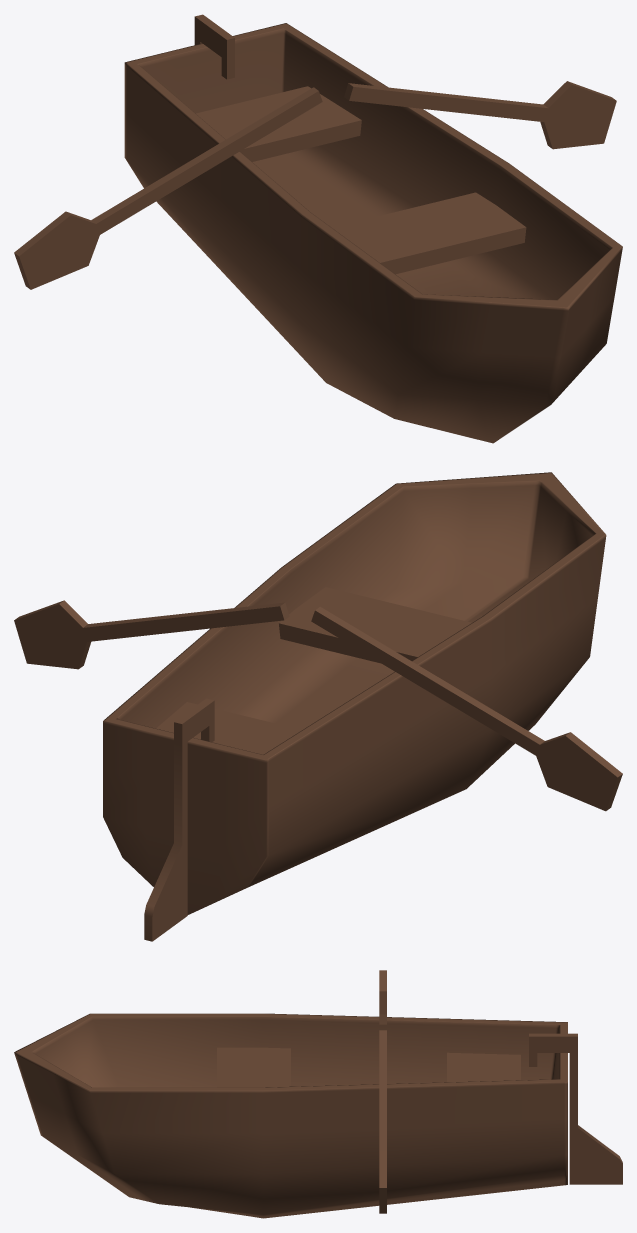
The model's file is low poly boat with oars.fbx.
3 renders of one model, top to bottom at view 1: azimuth 30°, elevation 25°; view 2: azimuth 150°, elevation 25°; view 3: azimuth 270°, elevation 25°, orthographic. The views are drawn at different scales.
Parts seen in each view (by area): view 1: pCube7, ore_01, ore_02; view 2: pCube7, ore_01, ore_02; view 3: pCube7, ore_02, ore_01.
Boxes of the visible parts, x1,y1,x2,y2 form: pCube7: [124, 14, 622, 443]; ore_01: [14, 87, 322, 289]; ore_02: [344, 81, 616, 149]; pCube7: [103, 472, 606, 941]; ore_01: [311, 606, 622, 811]; ore_02: [14, 600, 289, 669]; pCube7: [14, 1013, 622, 1218]; ore_02: [379, 1030, 386, 1213]; ore_01: [379, 970, 386, 1024].
Size of the model in its own units: 6.42 by 2.7 by 7.43.
